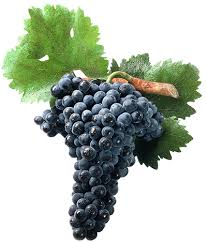Black grapes: (38, 66, 169, 242)
